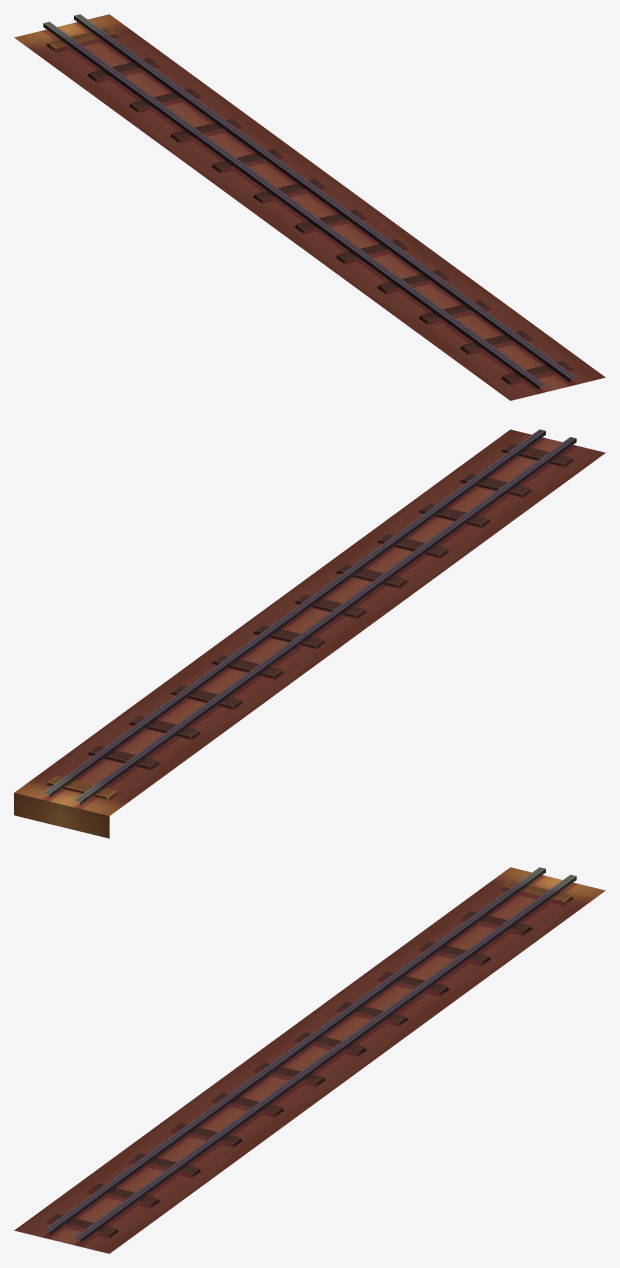
The model's file is 1.100_SanFrancisco_track_shadow_start.glb.
The picture shows the model from 3 angles, top to bottom: view 1: azimuth 30°, elevation 25°; view 2: azimuth 150°, elevation 25°; view 3: azimuth 330°, elevation 25°; orthographic projection.
Visible parts, largest first — view 1: 1.100_SanFrancisco_track_shadow_start; view 2: 1.100_SanFrancisco_track_shadow_start; view 3: 1.100_SanFrancisco_track_shadow_start.
Boxes of the visible parts, x1,y1,x2,y2 form: 1.100_SanFrancisco_track_shadow_start: (14, 14, 605, 400); 1.100_SanFrancisco_track_shadow_start: (14, 429, 605, 838); 1.100_SanFrancisco_track_shadow_start: (14, 867, 605, 1253).
Size of the model in its own units: 20 by 5.96 by 180.
2 materials, 2 textured.
